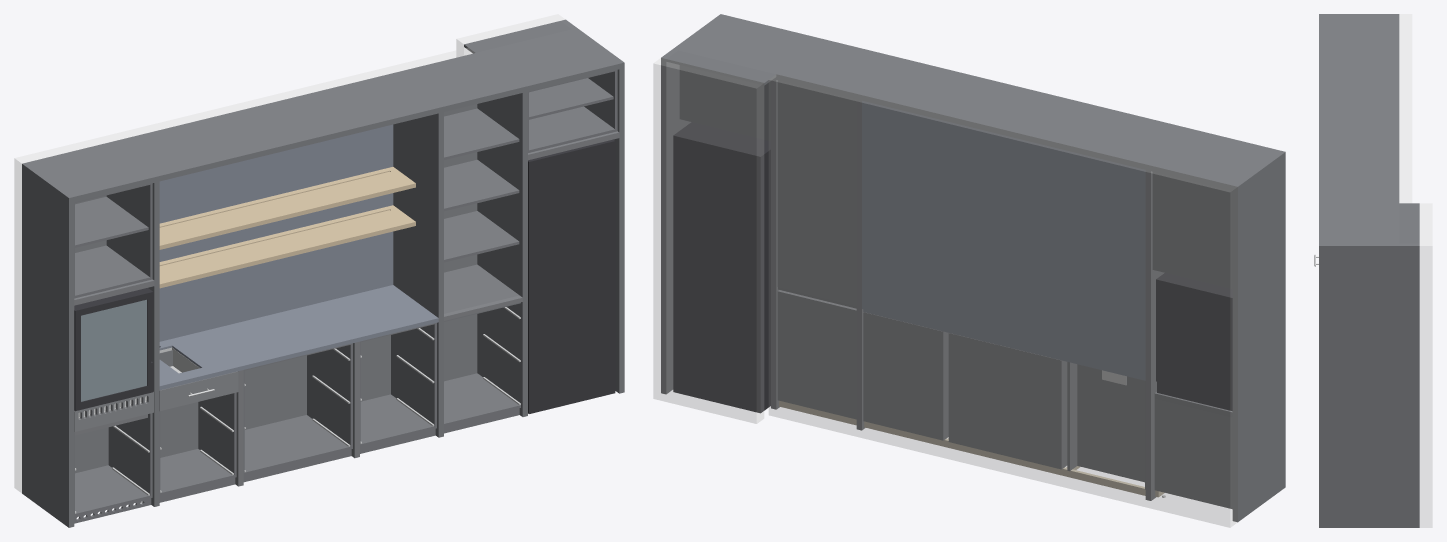
File: korpus.glb
The picture shows the model from 3 angles, left to right: view 1: azimuth 30°, elevation 25°; view 2: azimuth 150°, elevation 25°; view 3: azimuth 270°, elevation 25°; orthographic projection. The views are drawn at different scales.
Size of the model in its own units: 4230 by 2400 by 910.
